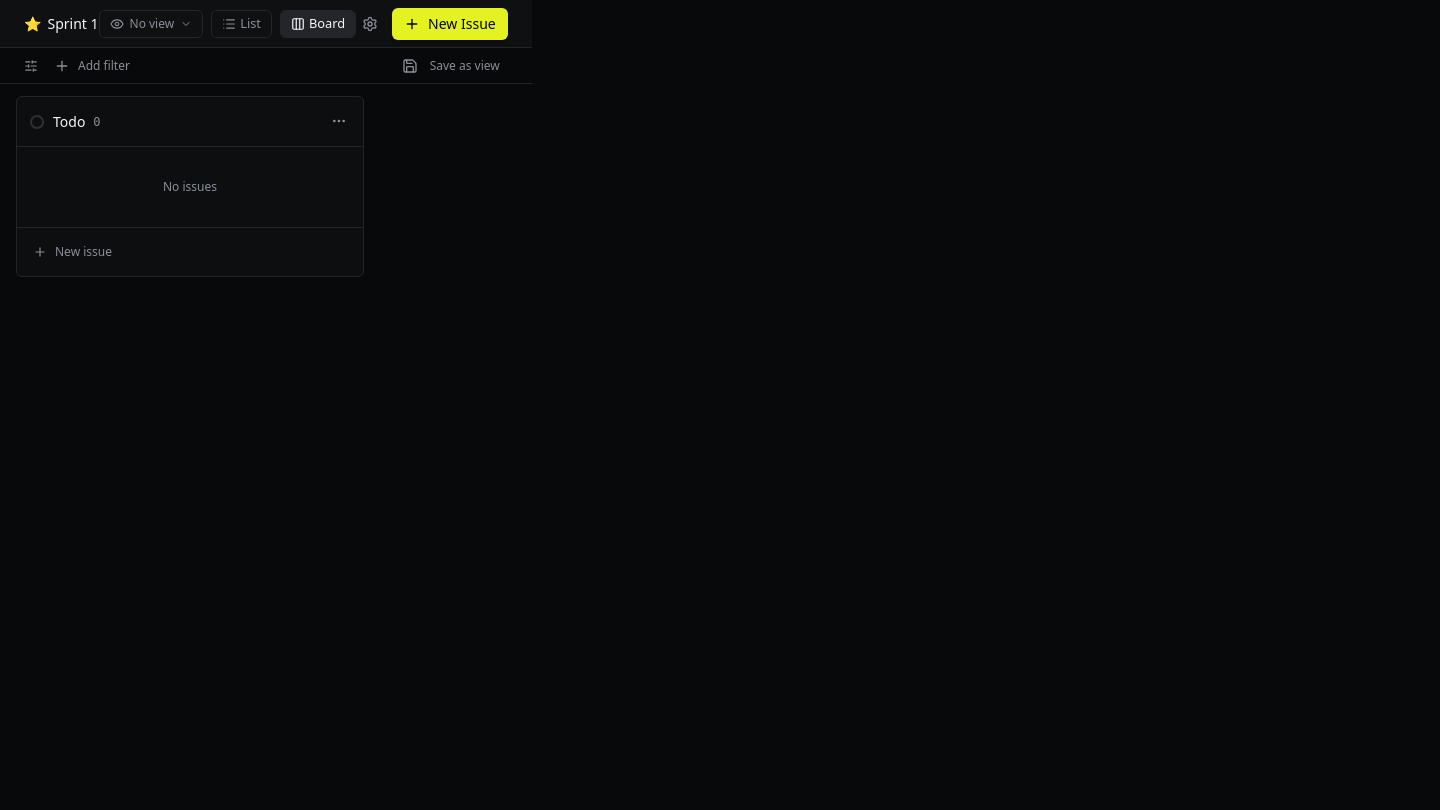
KanbanBoard — saving a view activates it › activates the created view via selectView when create succeeds
The width and height of the screenshot is (1440, 810).
Click the button "Save as view" at (451, 66), box 394,54 -> 508,78
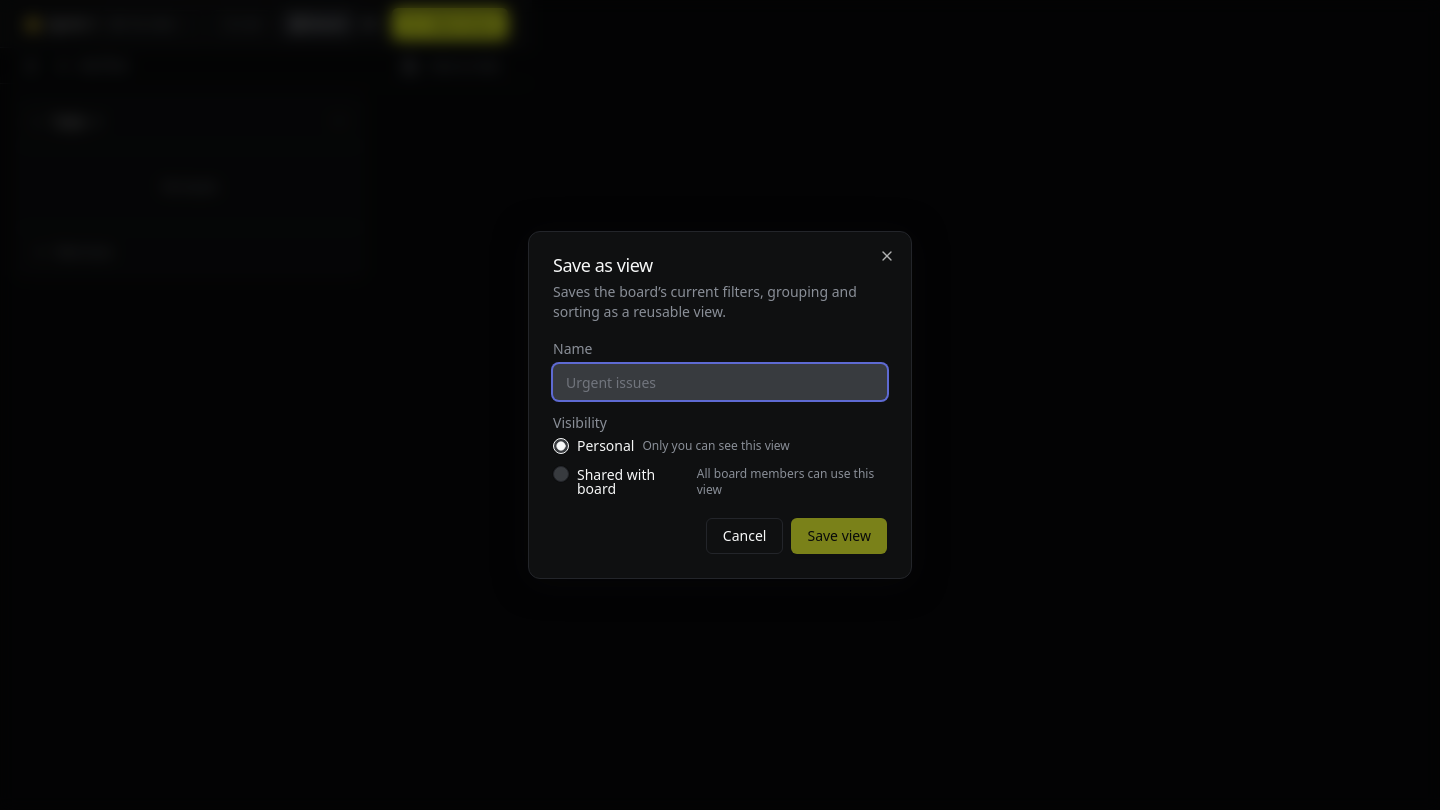
Type "Grouped by none" into the field labelled "Name" at (720, 382), box 553,364 -> 887,400
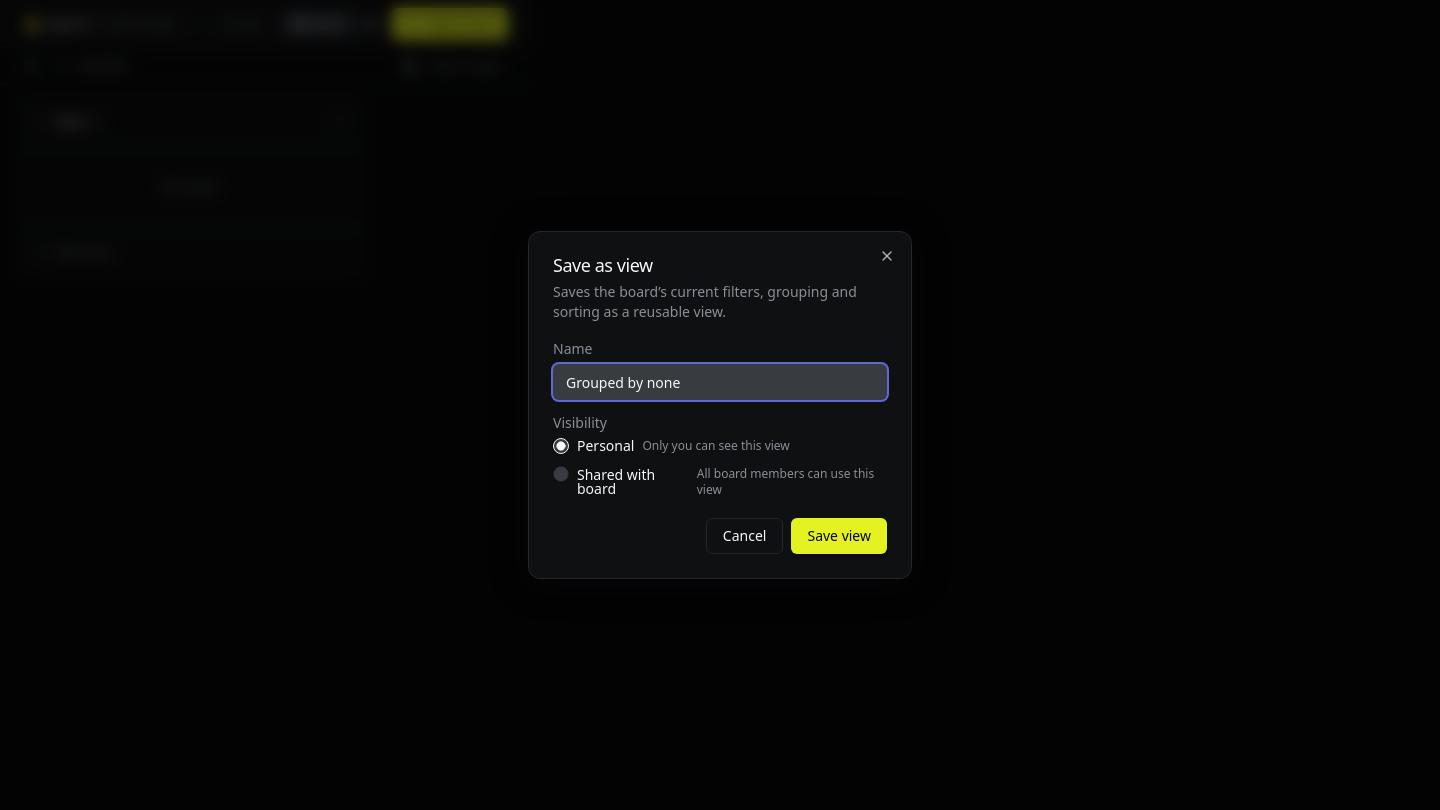
Click the button "Save view" at (839, 536), box 792,518 -> 887,554
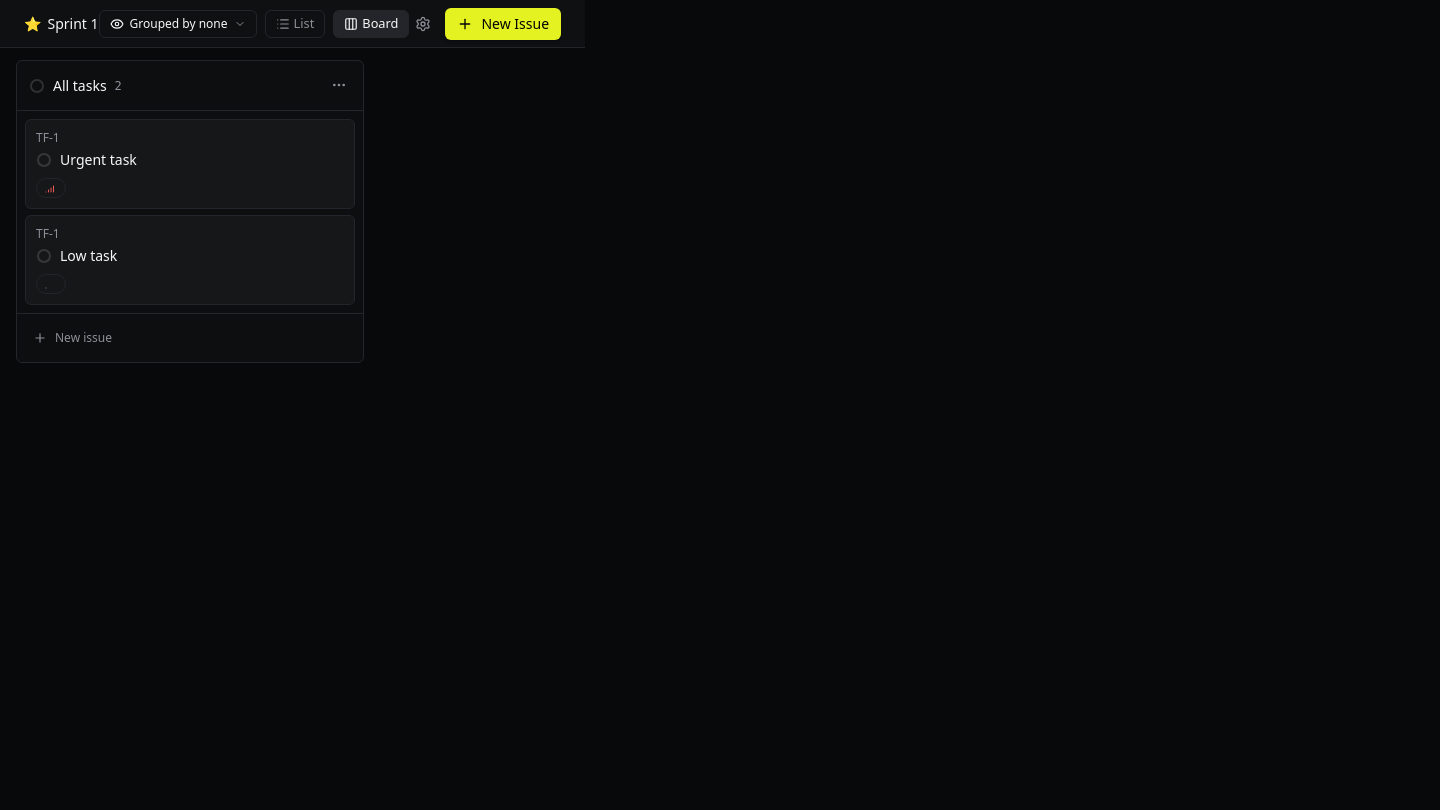
Check: the text "All tasks" is shown, box 53,76 -> 107,96
Check: the text "Grouped by none" is shown, box 130,16 -> 228,32
Check: the text "Todo" is gone
